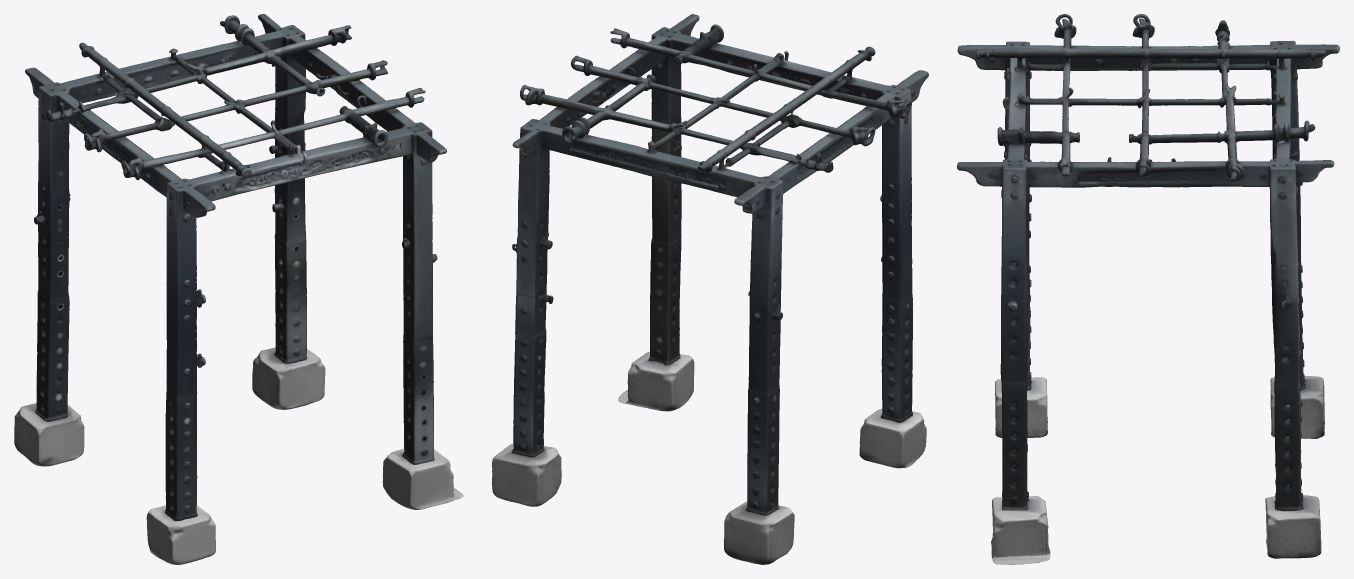
File: fitnessCage.glb
3 views of the same model, side by side, from view 1: azimuth 30°, elevation 25°; view 2: azimuth 150°, elevation 25°; view 3: azimuth 270°, elevation 25° (orthographic). The views are drawn at different scales.
Parts seen in each view (by area): view 1: world; view 2: world; view 3: world.
Part boxes in pixels (box(x1,y1,x2,y2)): world: box(14, 14, 463, 564); world: box(492, 14, 928, 564); world: box(957, 14, 1339, 564).
Bounding box in the file's own units: 0.826 × 1 × 0.8586.
1 material, 1 textured.
